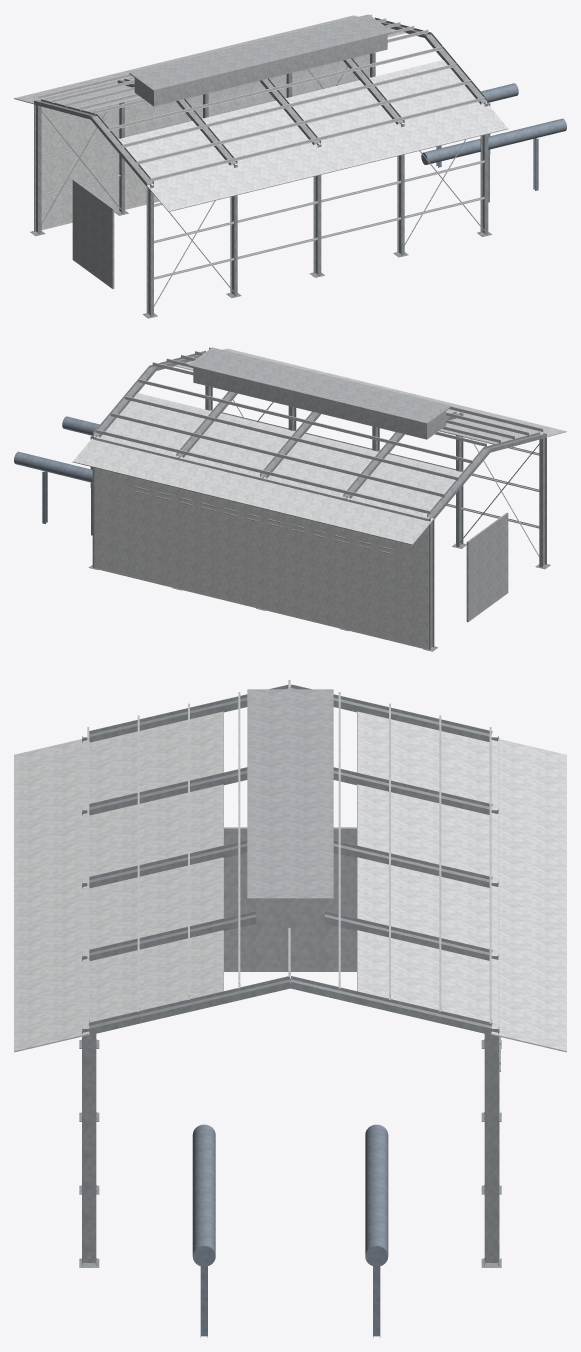
The model's file is geothermal-plant-enclosures.glb.
3 views of the same model, one above another, from view 1: azimuth 30°, elevation 25°; view 2: azimuth 150°, elevation 25°; view 3: azimuth 270°, elevation 25° (orthographic). The views are drawn at different scales.
Parts seen in each view (by area): view 1: Cladding, PortalFrames, Purlins&Girts, RoofMonitor, RollerDoor, SteamLines(context), WallBracing; view 2: Cladding, RoofMonitor, Purlins&Girts, PortalFrames, RollerDoor, SteamLines(context), WallLouvres, WallBracing; view 3: Cladding, PortalFrames, RoofMonitor, RollerDoor, SteamLines(context), Purlins&Girts.
Part boxes in pixels (<box>): Cladding: <box>14,15,508,229</box>; PortalFrames: <box>30,17,491,318</box>; Purlins&Girts: <box>38,14,484,279</box>; RoofMonitor: <box>129,14,392,106</box>; RollerDoor: <box>72,179,114,288</box>; SteamLines(context): <box>421,83,566,202</box>; WallBracing: <box>37,58,484,306</box>; Cladding: <box>72,348,566,649</box>; RoofMonitor: <box>188,347,451,439</box>; Purlins&Girts: <box>96,347,543,528</box>; PortalFrames: <box>88,350,550,651</box>; RollerDoor: <box>466,512,508,622</box>; SteamLines(context): <box>14,416,99,535</box>; WallLouvres: <box>135,486,392,554</box>; WallBracing: <box>228,391,543,645</box>; Cladding: <box>14,711,566,1262</box>; PortalFrames: <box>79,684,501,1267</box>; RoofMonitor: <box>247,689,333,929</box>; RollerDoor: <box>224,827,356,971</box>; SteamLines(context): <box>192,1124,388,1337</box>; Purlins&Girts: <box>87,680,491,1023</box>.
Size of the model in its own units: 32.35 by 12.44 by 19.24.
5 materials, 5 textured.
